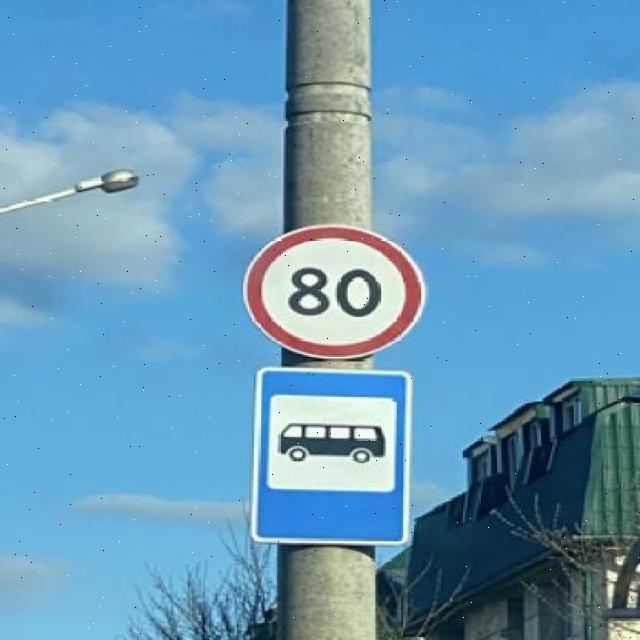speed limit 80: (242, 225, 429, 358)
